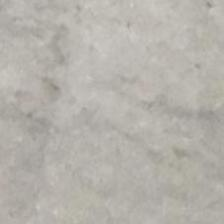Non_Crack: (26, 26, 213, 193)
